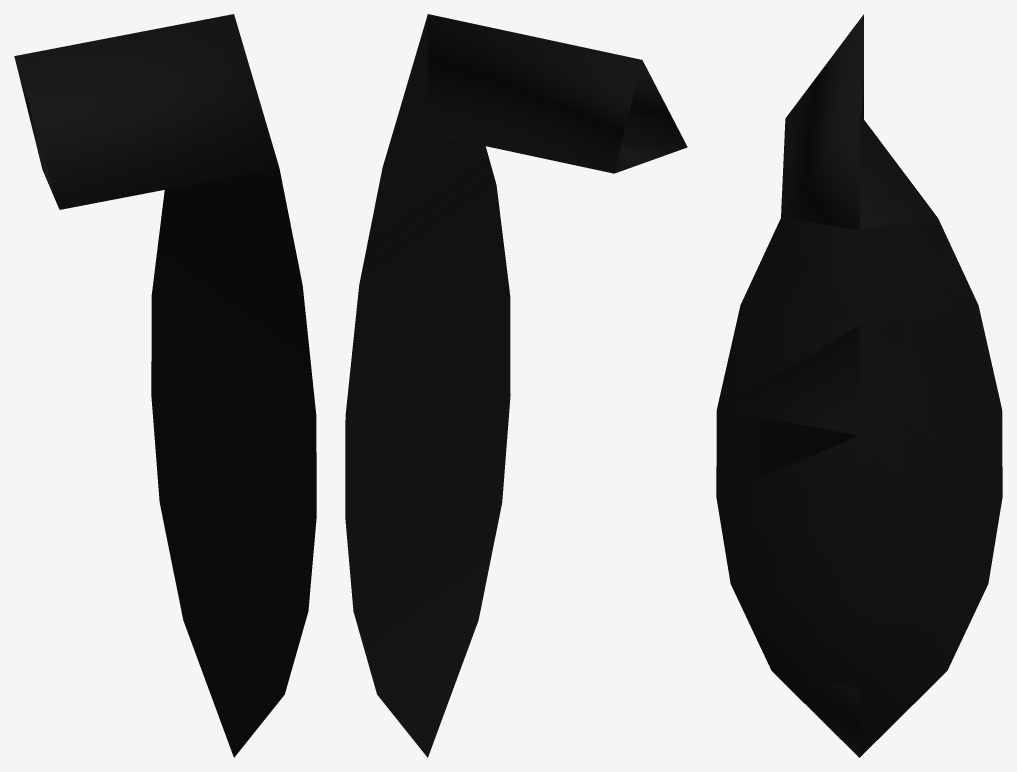
File: gunteralader.obj
The picture shows the model from 3 angles, left to right: view 1: azimuth 30°, elevation 25°; view 2: azimuth 150°, elevation 25°; view 3: azimuth 270°, elevation 25°; orthographic projection. The views are drawn at different scales.
Parts seen in each view (by area): view 1: GunterAlaDer; view 2: GunterAlaDer; view 3: GunterAlaDer.
Part boxes in pixels (x1,y1,x2,y2): GunterAlaDer: (14, 14, 316, 757); GunterAlaDer: (345, 14, 687, 757); GunterAlaDer: (716, 14, 1002, 757).
Size of the model in its own units: 0.2455 by 0.6289 by 0.2503.
